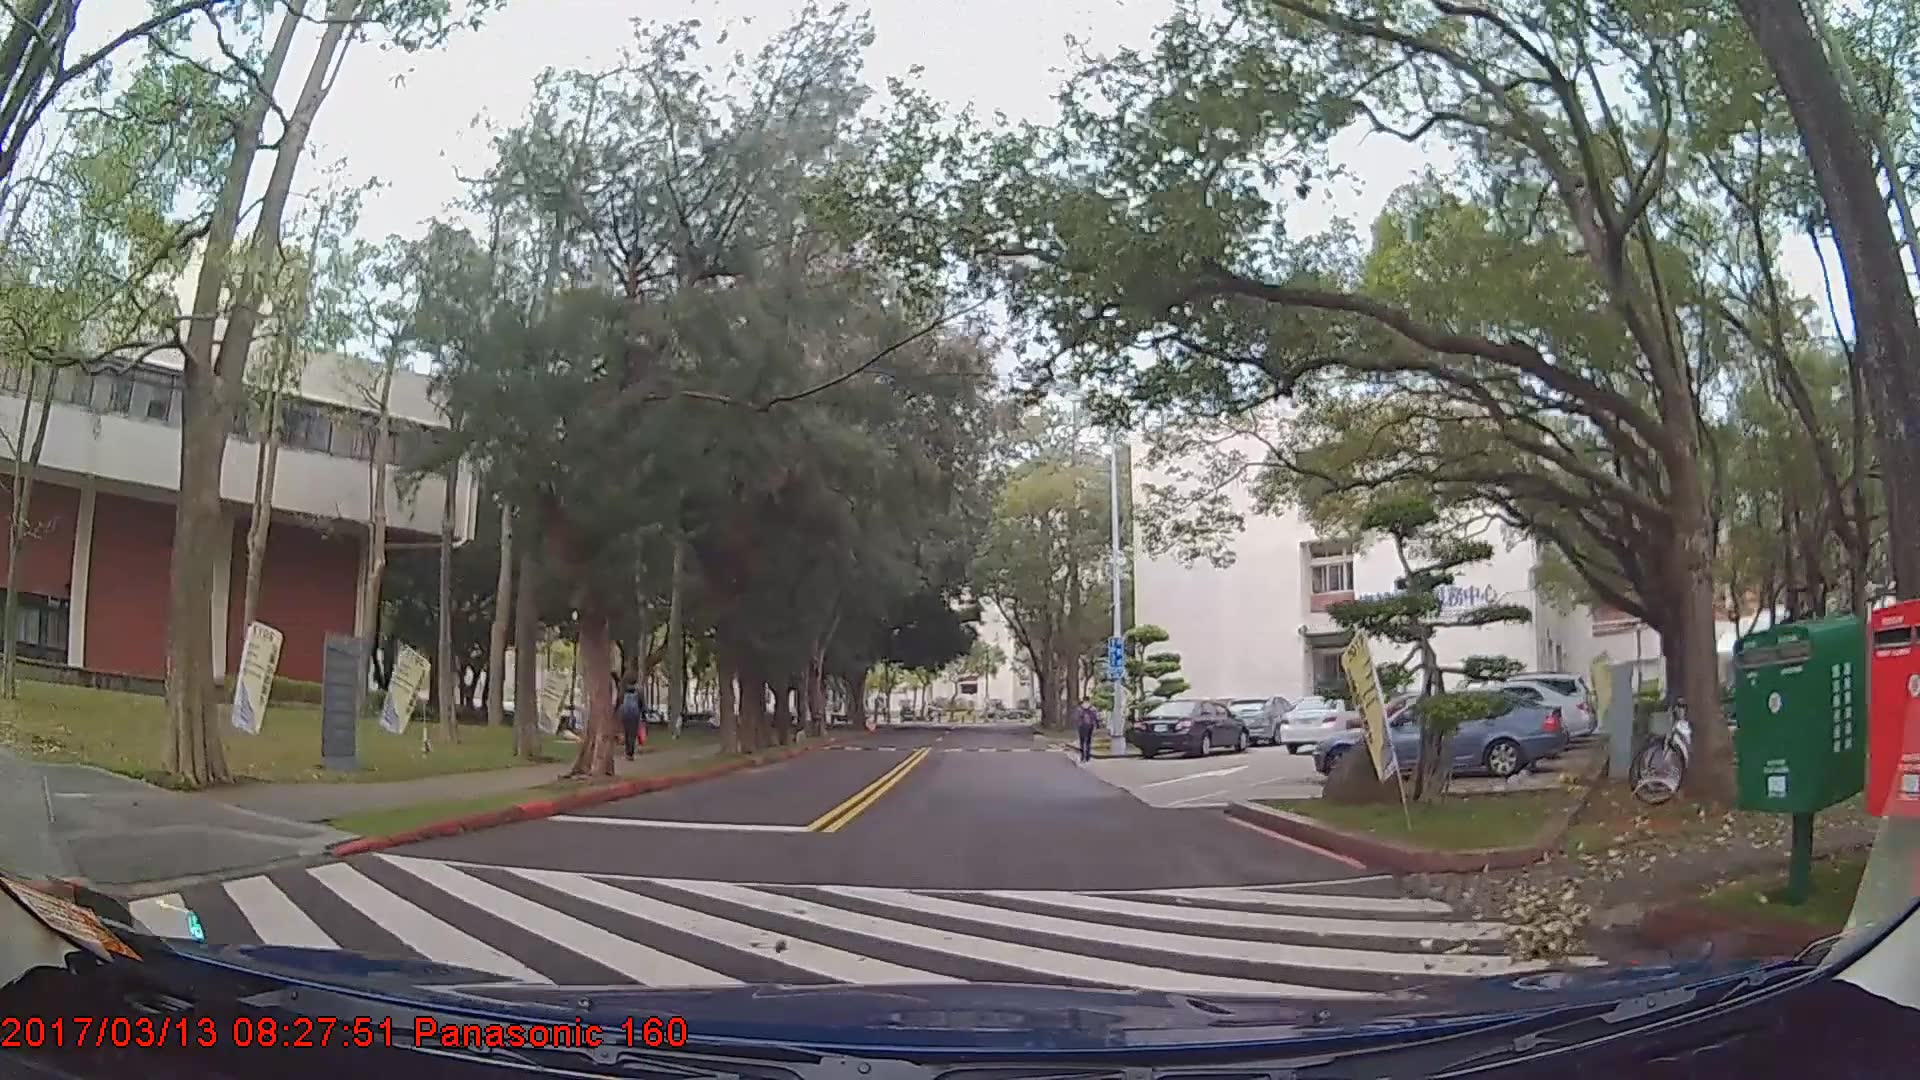pedestrian: (613, 672, 648, 759), (1072, 694, 1102, 762)
vehicle: (1312, 686, 1567, 783), (1425, 678, 1592, 750), (1129, 696, 1250, 757), (1279, 691, 1370, 753), (1224, 696, 1306, 747)
